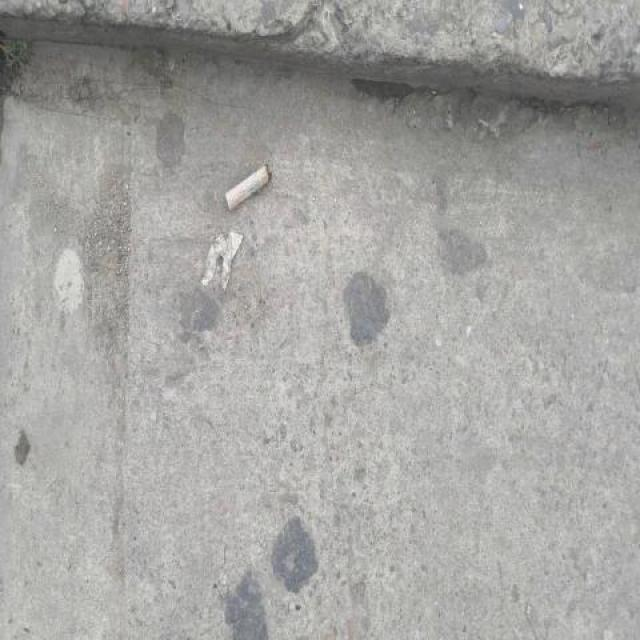non-organic waste: (221, 160, 276, 216)
